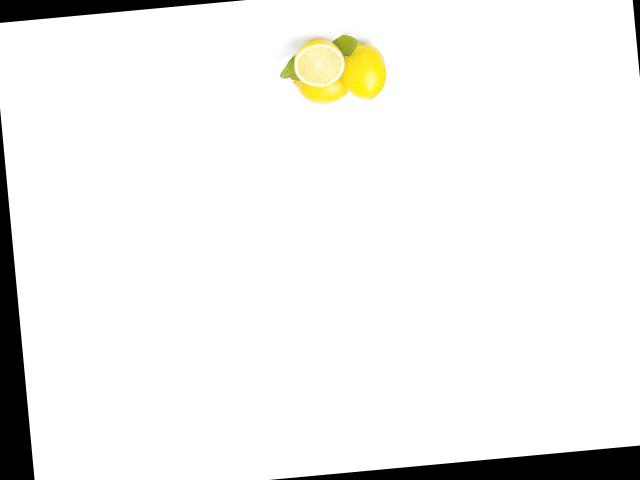lemon: (288, 69, 347, 110)
